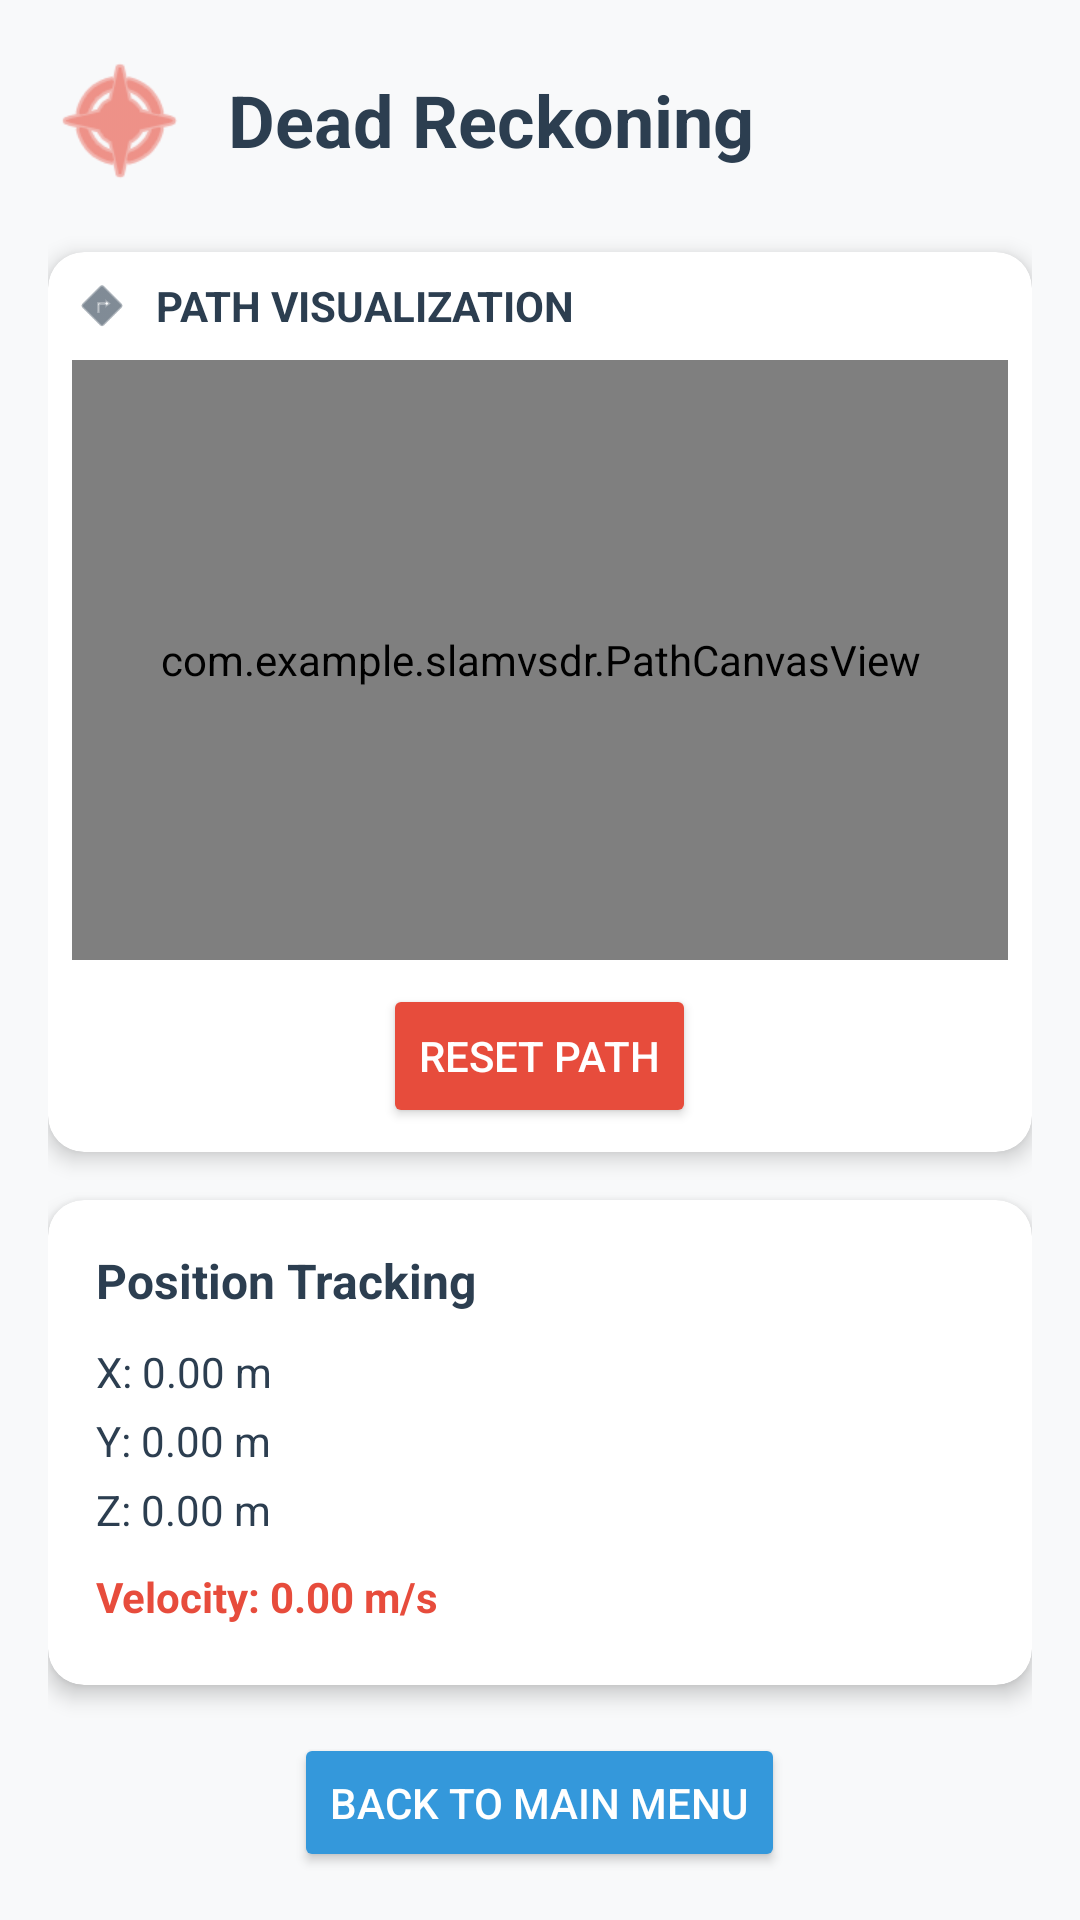

Icon bounding boxes for this 1080x1920 phone screenshot, format detection(x1, y1, x2, y2):
compass: detection(63, 64, 176, 177)
directions: detection(81, 285, 123, 326)
